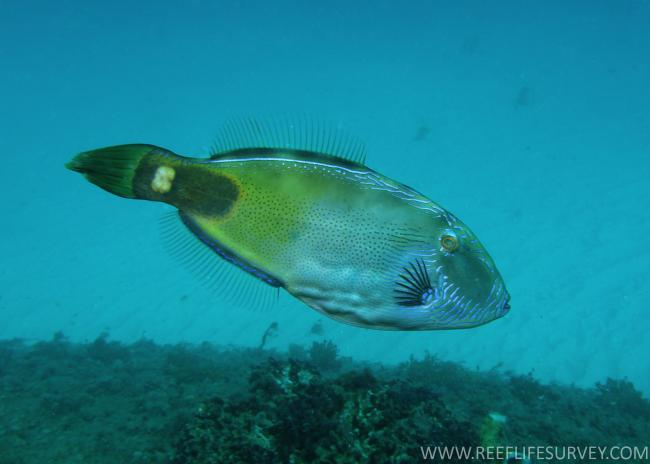fish: (67, 119, 512, 330)
